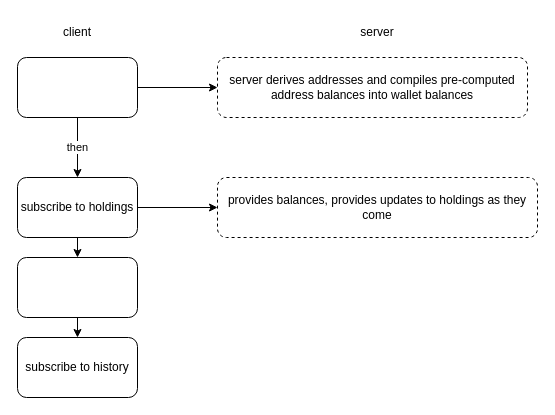
This 555x415 diagram has some shape labels left out. Here are the shapes that lost their labels. From the top down, the box of each, then its label:
(16, 56, 138, 118): connect to server (provide pubkey)
(16, 256, 138, 318): subscribe to unspents
